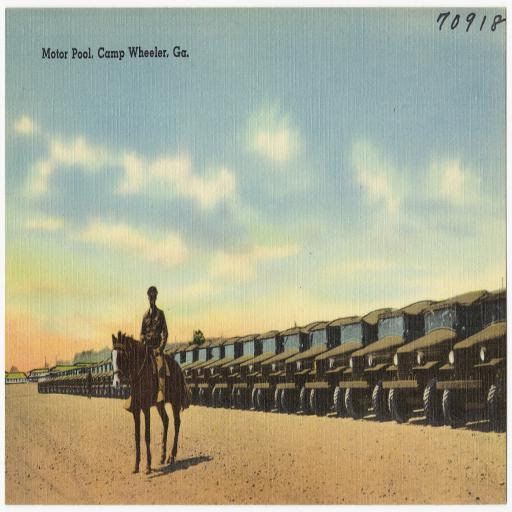horse: (112, 328, 194, 475)
